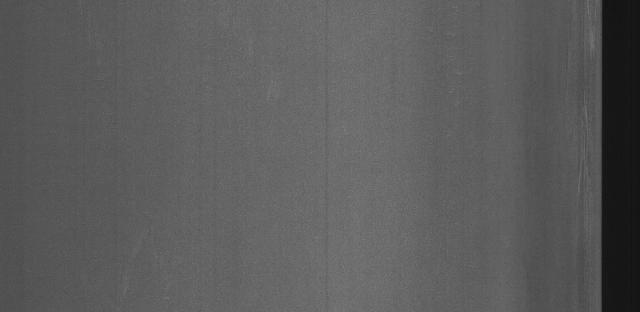silk_spot: (570, 18, 597, 245)
